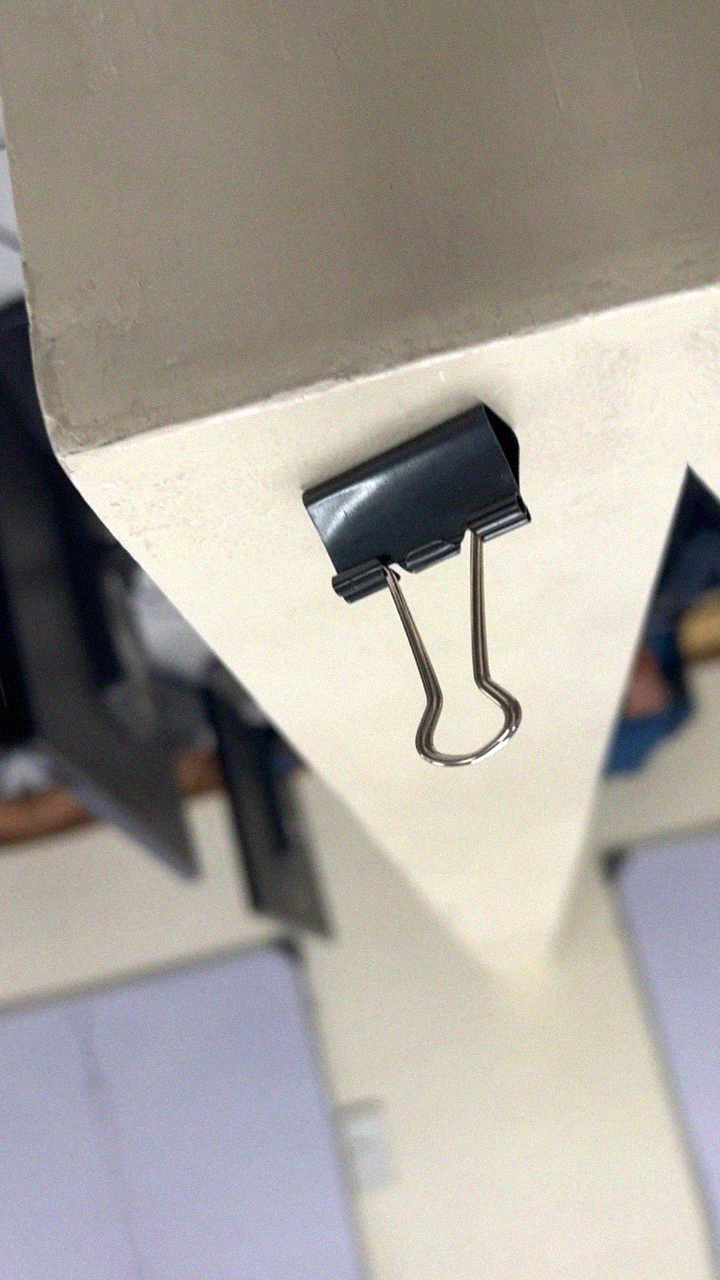kep_giay: (287, 398, 596, 793)
